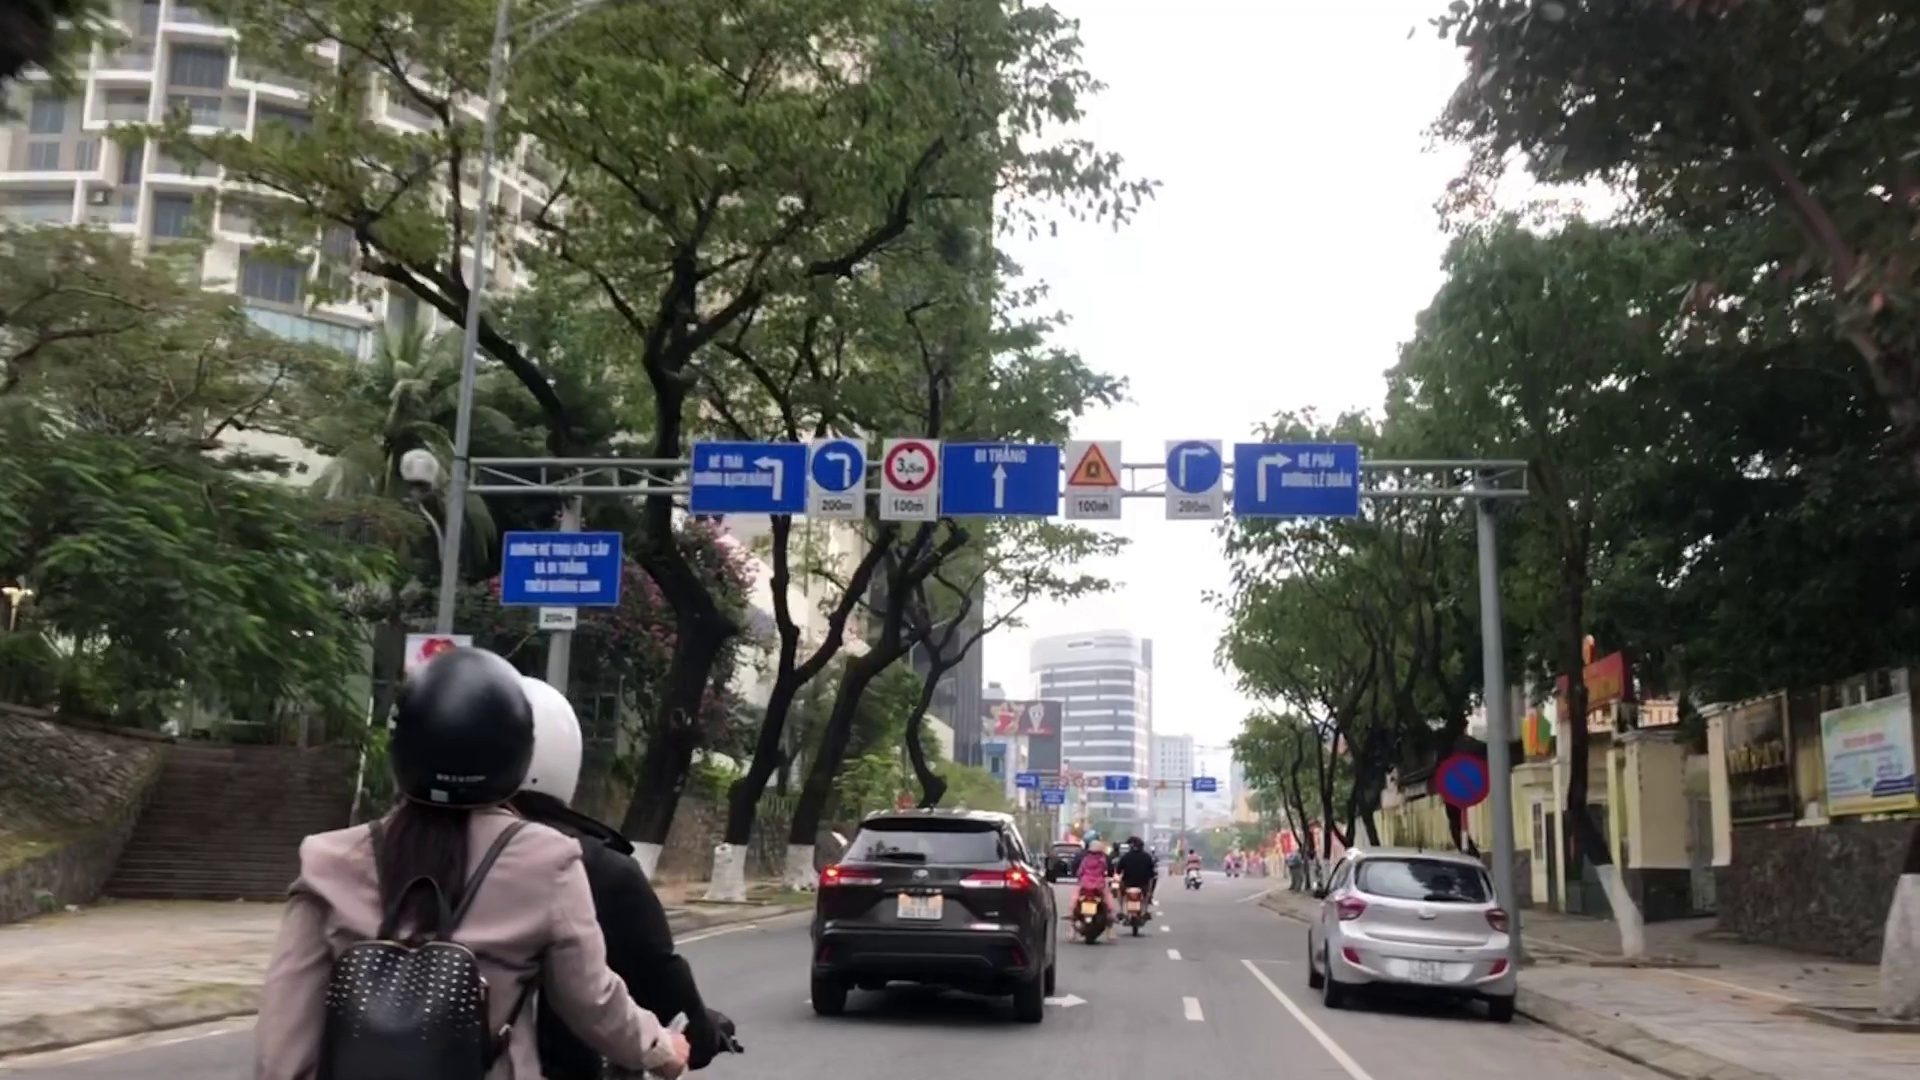Cam do xe: (1437, 752, 1489, 808)
